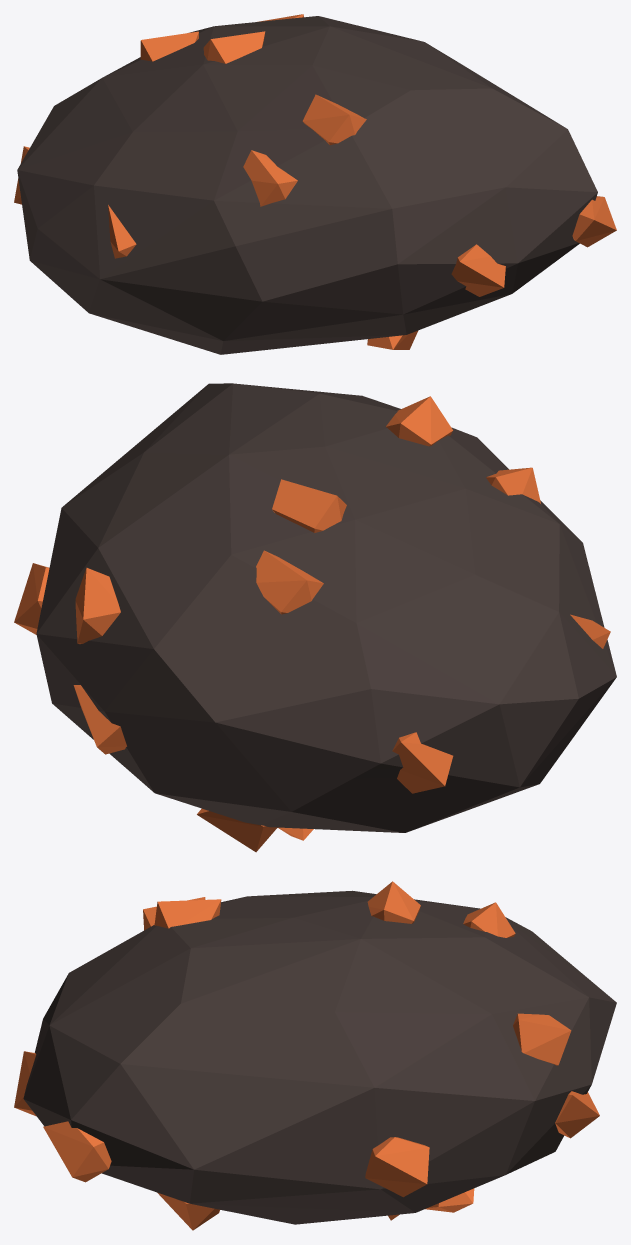
The model's file is SM_Copper_Rock.fbx.
The picture shows the model from 3 angles, top to bottom: view 1: azimuth 30°, elevation 25°; view 2: azimuth 150°, elevation 25°; view 3: azimuth 270°, elevation 25°; orthographic projection. The views are drawn at different scales.
Parts seen in each view (by area): view 1: Sphere.004; view 2: Sphere.004; view 3: Sphere.004.
Boxes of the visible parts, x1,y1,x2,y2 form: Sphere.004: (14,14,616,354); Sphere.004: (14,383,616,852); Sphere.004: (14,881,616,1230).
Size of the model in its own units: 507 by 303 by 519.
